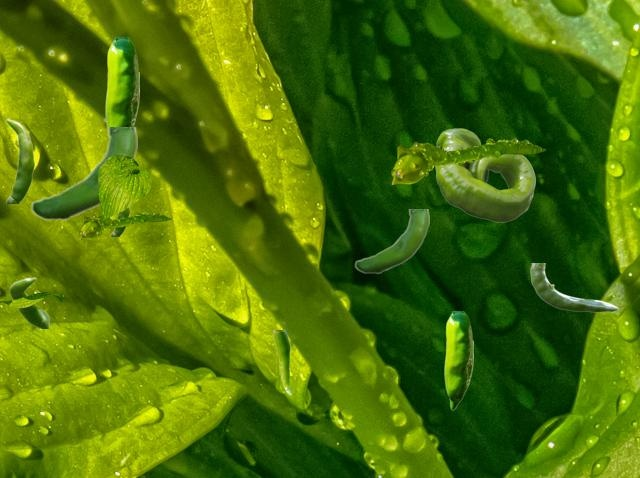green_chili: (30, 127, 136, 220), (435, 128, 534, 221), (354, 209, 428, 273), (530, 263, 617, 311), (105, 37, 138, 129), (444, 311, 472, 409), (5, 118, 34, 202), (9, 277, 48, 327), (273, 330, 290, 394), (110, 208, 129, 235)
